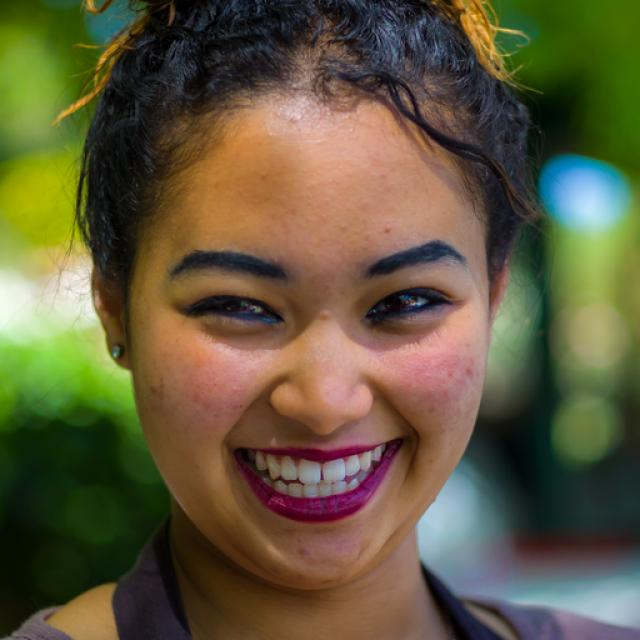Acne: (307, 290, 346, 335)
Pigmentation: (389, 337, 482, 422), (176, 351, 254, 417)
